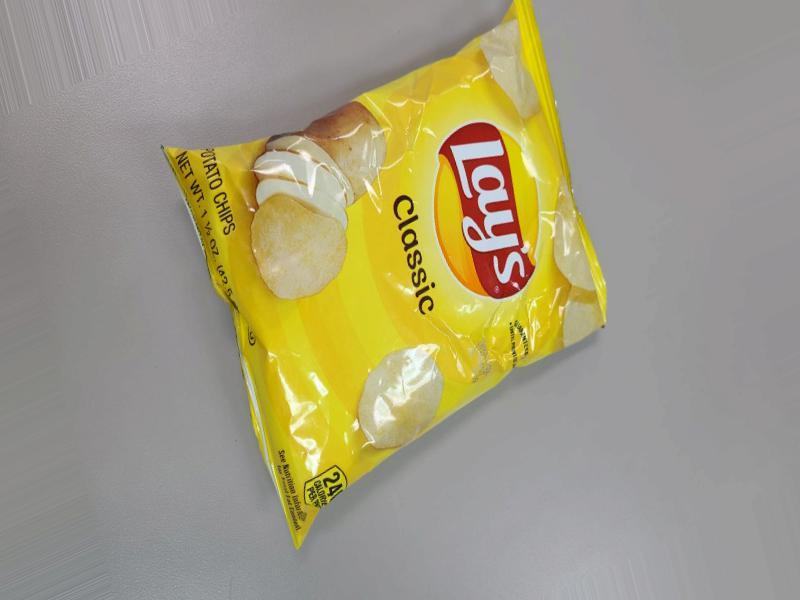lays: (275, 0, 631, 600)
